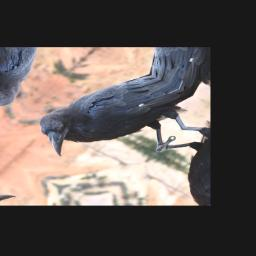Crow: (18, 54, 210, 186)
